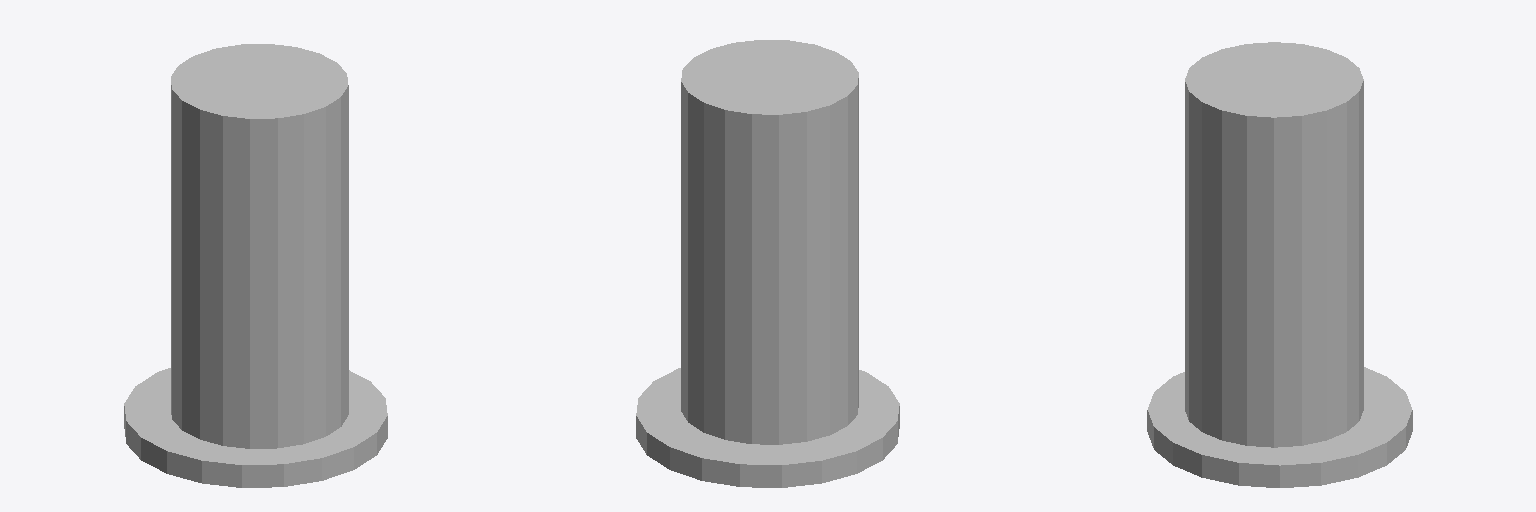
Rendered from baseSilla.obj.
The picture shows the model from 3 angles: view 1: azimuth 30°, elevation 25°; view 2: azimuth 150°, elevation 25°; view 3: azimuth 270°, elevation 25°; orthographic projection.
Visible parts, largest first — view 1: sillacabina:polySurface27 tablerocontrol:polySurface8, tablerocontrol:polySurface9 sillacabina:polySurface27; view 2: sillacabina:polySurface27 tablerocontrol:polySurface8, tablerocontrol:polySurface9 sillacabina:polySurface27; view 3: sillacabina:polySurface27 tablerocontrol:polySurface8, tablerocontrol:polySurface9 sillacabina:polySurface27.
Part boxes in pixels (x1,y1,x2,y2): sillacabina:polySurface27 tablerocontrol:polySurface8: (171,44,348,448); tablerocontrol:polySurface9 sillacabina:polySurface27: (124,368,387,487); sillacabina:polySurface27 tablerocontrol:polySurface8: (681,40,858,444); tablerocontrol:polySurface9 sillacabina:polySurface27: (636,368,899,487); sillacabina:polySurface27 tablerocontrol:polySurface8: (1185,42,1363,447); tablerocontrol:polySurface9 sillacabina:polySurface27: (1147,367,1412,487).
Bounding box in the file's own units: 0.1032 × 0.1516 × 0.1032.